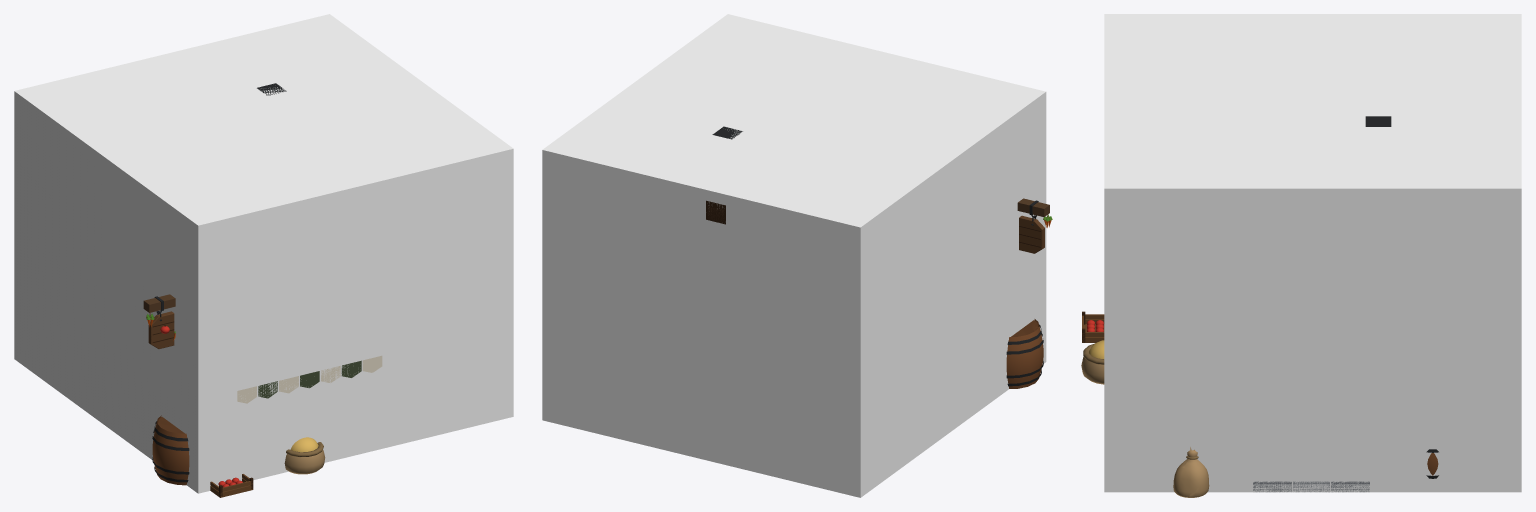
The model's file is building_medieval_market_stall_a.glb.
The picture shows the model from 3 angles, left to right: view 1: azimuth 30°, elevation 25°; view 2: azimuth 150°, elevation 25°; view 3: azimuth 270°, elevation 25°; orthographic projection. The views are drawn at different scales.
Parts seen in each view (by area): view 1: COL_building_medieval_market_stall_a, props-group, awning-group, trade-sign-group; view 2: COL_building_medieval_market_stall_a, props-group, trade-sign-group; view 3: COL_building_medieval_market_stall_a, props-group, foundation-group.
Boxes of the visible parts, x1,y1,x2,y2 form: COL_building_medieval_market_stall_a: [14, 14, 513, 493]; props-group: [152, 417, 325, 497]; awning-group: [237, 355, 382, 403]; trade-sign-group: [143, 294, 175, 348]; COL_building_medieval_market_stall_a: [542, 14, 1046, 497]; props-group: [1006, 320, 1043, 388]; trade-sign-group: [1017, 198, 1052, 253]; COL_building_medieval_market_stall_a: [1104, 14, 1521, 492]; props-group: [1081, 311, 1438, 497]; foundation-group: [1253, 481, 1369, 492].
Bounding box in the file's own units: 5.67 × 4.04 × 5.31.
